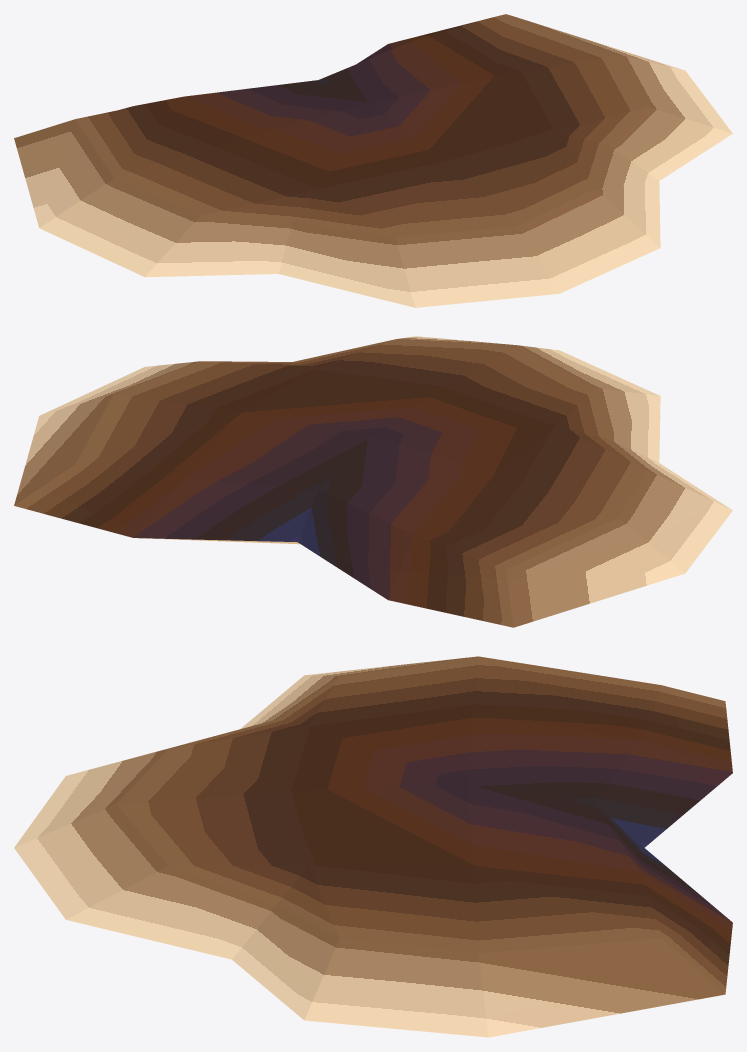
Rendered from medium_TurkeyTail.glb.
3 renders of one model, top to bottom at view 1: azimuth 30°, elevation 25°; view 2: azimuth 150°, elevation 25°; view 3: azimuth 270°, elevation 25°, orthographic. The views are drawn at different scales.
Visible parts, largest first — view 1: Turkey_midfull; view 2: Turkey_midfull; view 3: Turkey_midfull.
Boxes of the visible parts, x1,y1,x2,y2 form: Turkey_midfull: [14, 14, 732, 307]; Turkey_midfull: [14, 336, 732, 627]; Turkey_midfull: [14, 656, 732, 1037].
Bounding box in the file's own units: 2.7 × 0.3398 × 2.16.
Materials: 1 (1 with a texture image).
